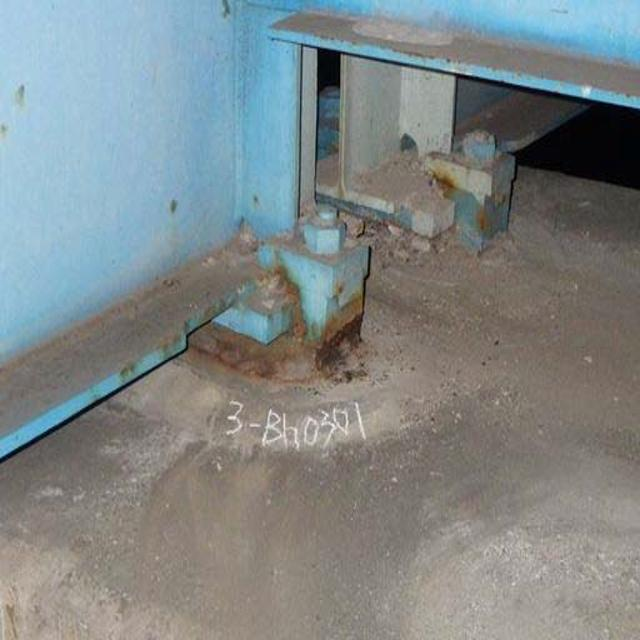corrosion: (188, 246, 376, 391)
